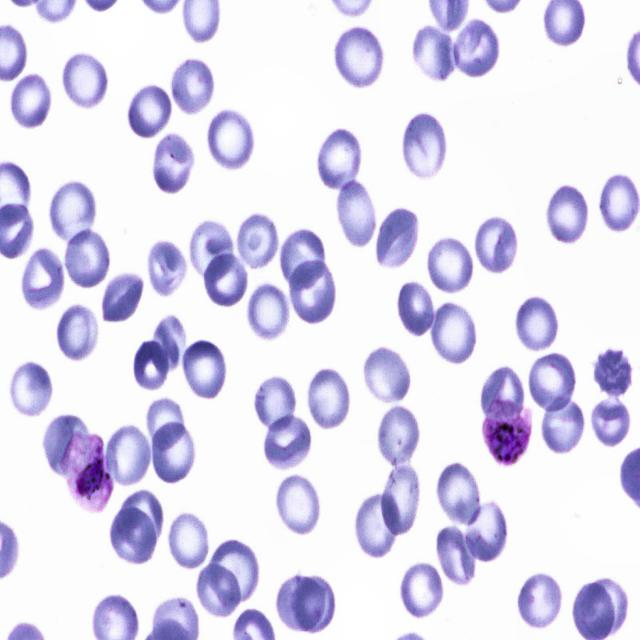red blood cell: (210, 536, 262, 607), (288, 255, 338, 326), (335, 172, 378, 252), (353, 490, 402, 560), (205, 105, 256, 172), (48, 178, 98, 246), (332, 25, 384, 90), (316, 124, 364, 194), (402, 110, 448, 183), (435, 458, 482, 529), (424, 233, 476, 297), (428, 300, 478, 366), (150, 417, 197, 486), (103, 422, 151, 489), (62, 226, 112, 290), (451, 18, 501, 82), (261, 413, 314, 473), (20, 246, 66, 315), (274, 577, 328, 635), (280, 227, 326, 295), (361, 346, 414, 405), (274, 472, 322, 537), (379, 463, 422, 535), (181, 335, 227, 402), (234, 210, 280, 276), (188, 216, 234, 282), (43, 416, 90, 480), (528, 354, 578, 414), (195, 554, 243, 616), (306, 366, 351, 432), (539, 394, 586, 457), (125, 81, 173, 142), (473, 214, 519, 277), (375, 207, 421, 270), (545, 182, 590, 246), (116, 492, 164, 552), (479, 364, 526, 425), (166, 508, 212, 570), (514, 292, 560, 354), (144, 237, 189, 300), (202, 251, 250, 310), (109, 506, 159, 562), (61, 51, 108, 110), (168, 56, 215, 115), (8, 359, 54, 419), (517, 569, 562, 630), (412, 22, 457, 83), (466, 500, 508, 565), (585, 579, 629, 640), (246, 281, 290, 342), (54, 300, 98, 361), (151, 134, 195, 195), (376, 407, 419, 468), (9, 71, 52, 132), (400, 561, 445, 619), (292, 574, 334, 635), (599, 172, 639, 236), (434, 527, 476, 586), (398, 277, 437, 340), (98, 269, 144, 322), (253, 377, 296, 433), (145, 398, 187, 452), (590, 346, 632, 399), (150, 316, 188, 374), (131, 338, 169, 392), (592, 398, 630, 445)
trophozoite: (64, 432, 112, 516), (482, 394, 533, 465)
